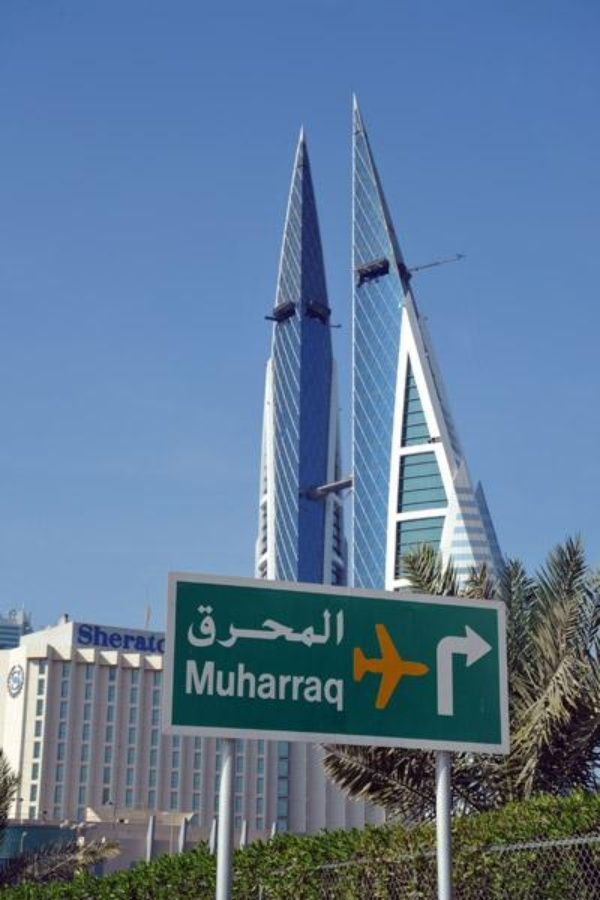text: (193, 658, 208, 715), (209, 658, 224, 715), (225, 658, 240, 715), (241, 658, 256, 715), (257, 658, 272, 715), (273, 658, 288, 715), (289, 658, 304, 715), (305, 658, 320, 715), (321, 658, 336, 715), (193, 602, 208, 650), (209, 602, 224, 650), (225, 602, 240, 650), (241, 602, 256, 650), (257, 602, 272, 650), (273, 602, 288, 650), (289, 602, 304, 650), (305, 602, 320, 650), (321, 602, 336, 650), (337, 658, 346, 715), (337, 602, 347, 650), (81, 623, 96, 652), (97, 623, 112, 652), (113, 623, 128, 652), (129, 623, 144, 652), (185, 658, 192, 715), (145, 623, 158, 652), (185, 602, 192, 650), (77, 623, 80, 652)
